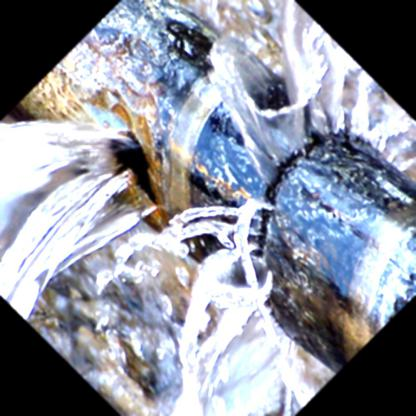burst: (200, 80, 379, 293), (68, 117, 162, 208)
